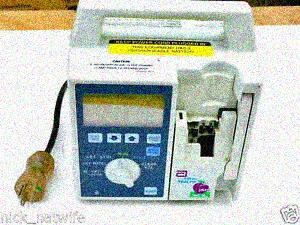plumxl1: (70, 2, 256, 200)
